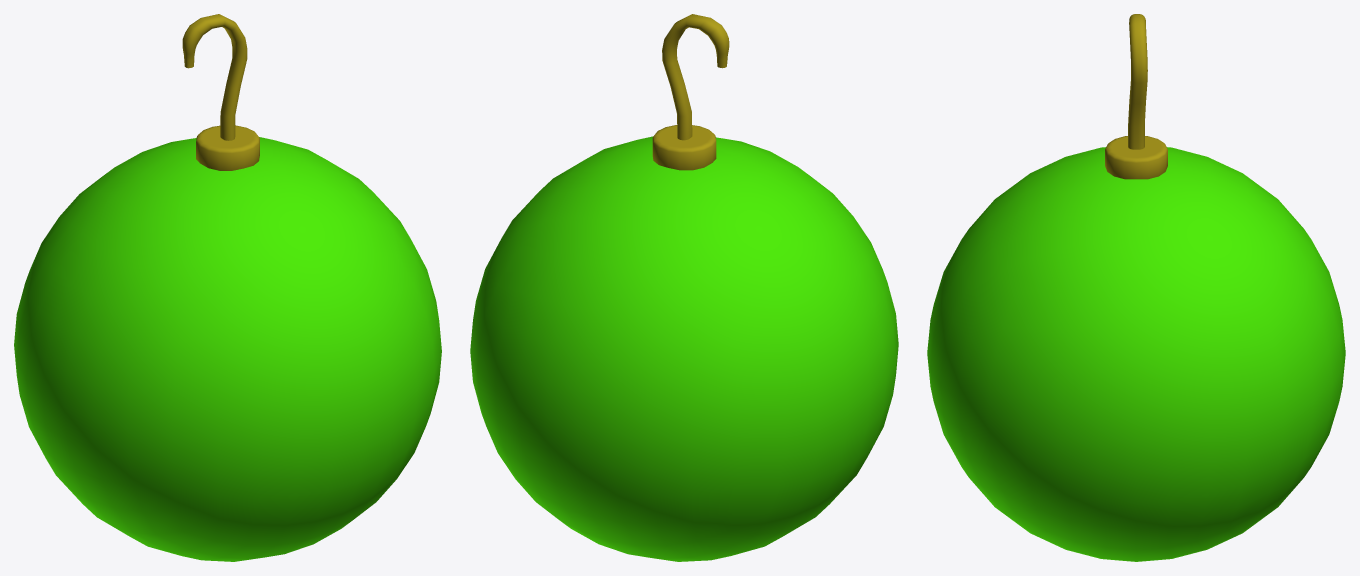
Rendered from ball_green.glb.
The picture shows the model from 3 angles, left to right: view 1: azimuth 30°, elevation 25°; view 2: azimuth 150°, elevation 25°; view 3: azimuth 270°, elevation 25°; orthographic projection. The views are drawn at different scales.
Visible parts, largest first — view 1: Ball_green; view 2: Ball_green; view 3: Ball_green.
Part boxes in pixels (x1=…): Ball_green: x1=14, y1=14, x2=441, y2=561; Ball_green: x1=470, y1=14, x2=898, y2=561; Ball_green: x1=927, y1=14, x2=1345, y2=561.
Size of the model in its own units: 0.0907 by 0.1235 by 0.0907.
